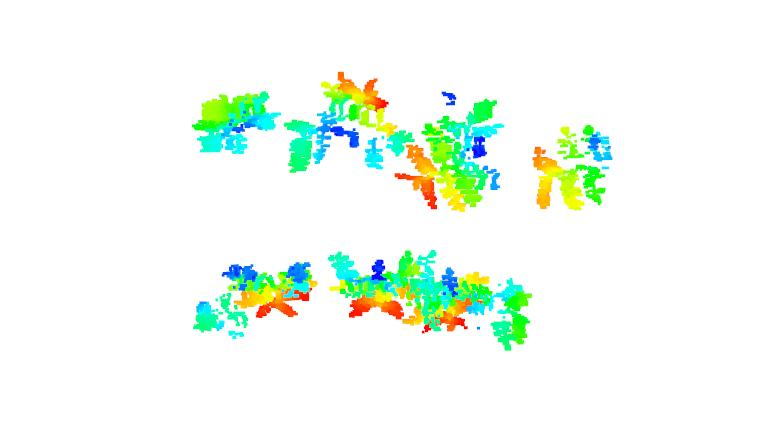chickpea: (389, 94, 506, 212), (279, 72, 388, 170), (188, 261, 317, 339), (324, 248, 414, 332), (535, 122, 613, 215), (190, 88, 282, 159), (419, 251, 481, 340), (484, 277, 543, 353)
